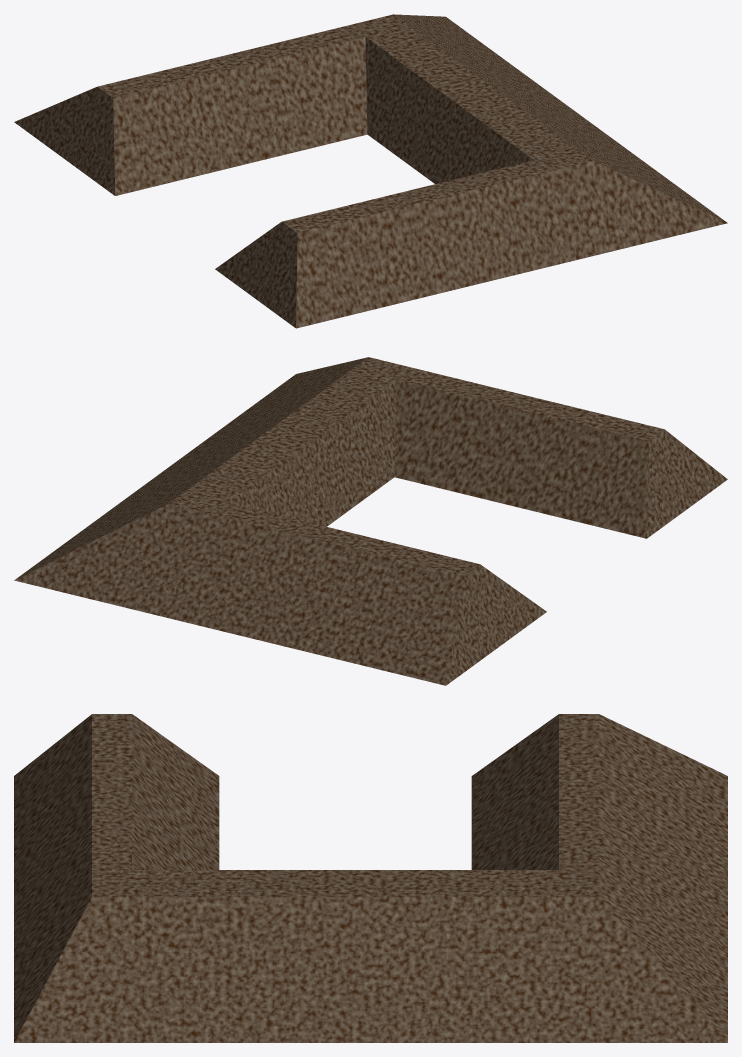
Rendered from Border_ARVR.fbx.
3 views of the same model, one above another, from view 1: azimuth 30°, elevation 25°; view 2: azimuth 150°, elevation 25°; view 3: azimuth 270°, elevation 25° (orthographic). The views are drawn at different scales.
Visible parts, largest first — view 1: Cube; view 2: Cube; view 3: Cube.
Boxes of the visible parts, box(x1,y1,x2,y2) form: Cube: box(14, 14, 727, 328); Cube: box(14, 357, 727, 685); Cube: box(14, 714, 727, 1042).
Bounding box in the file's own units: 5447 × 780 × 6160.
1 material, 1 textured.
